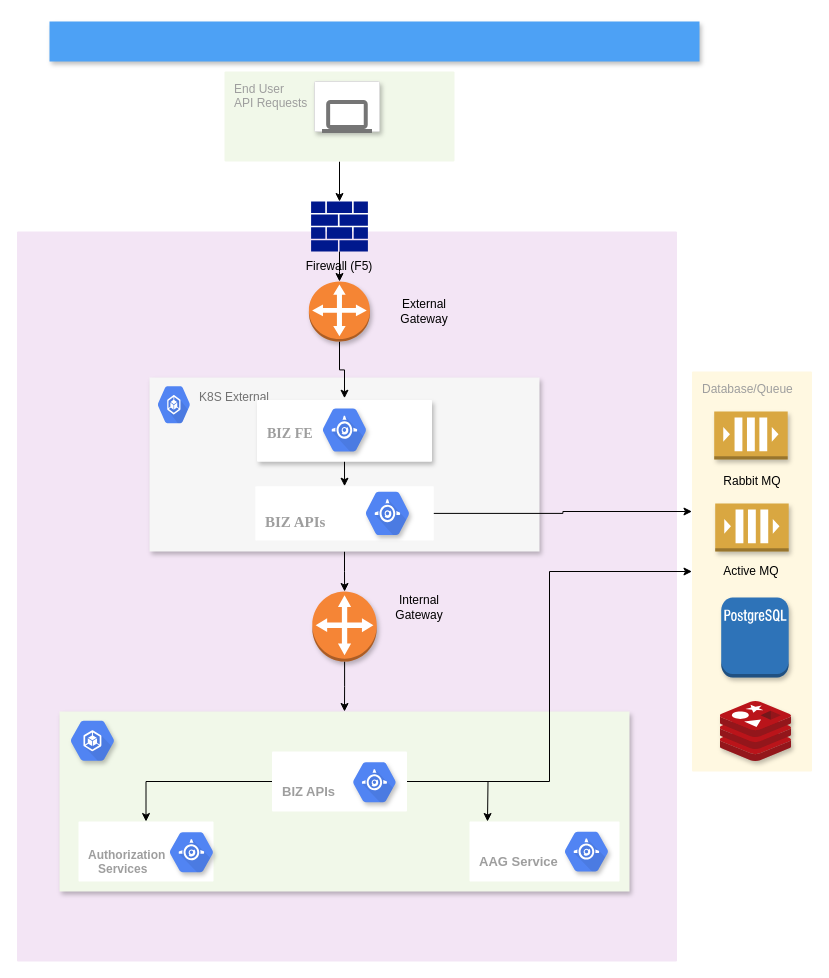
This 829x978 diagram has some shape labels left out. The centre of each missing label's shape, as x and y in pixels:
"Architecture: Business Integration" goes at (x=375, y=42).
"K8S Internal" goes at (x=93, y=741).
